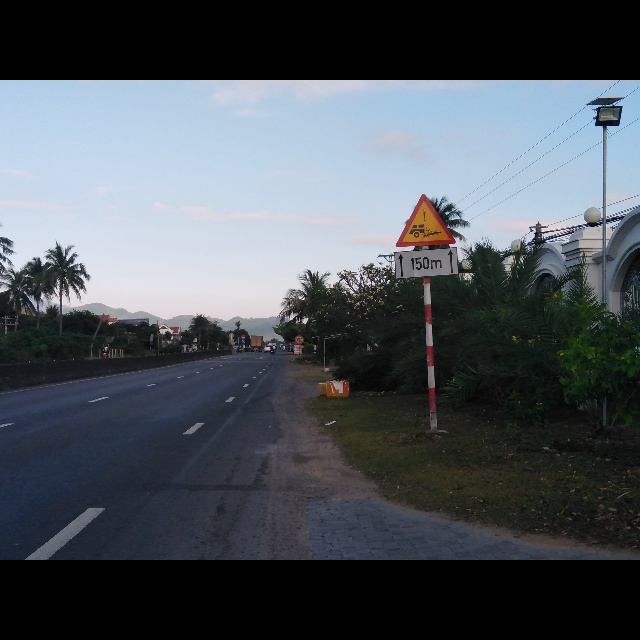Đoạn đường hay xảy ra tai nạn: (394, 195, 457, 246)
